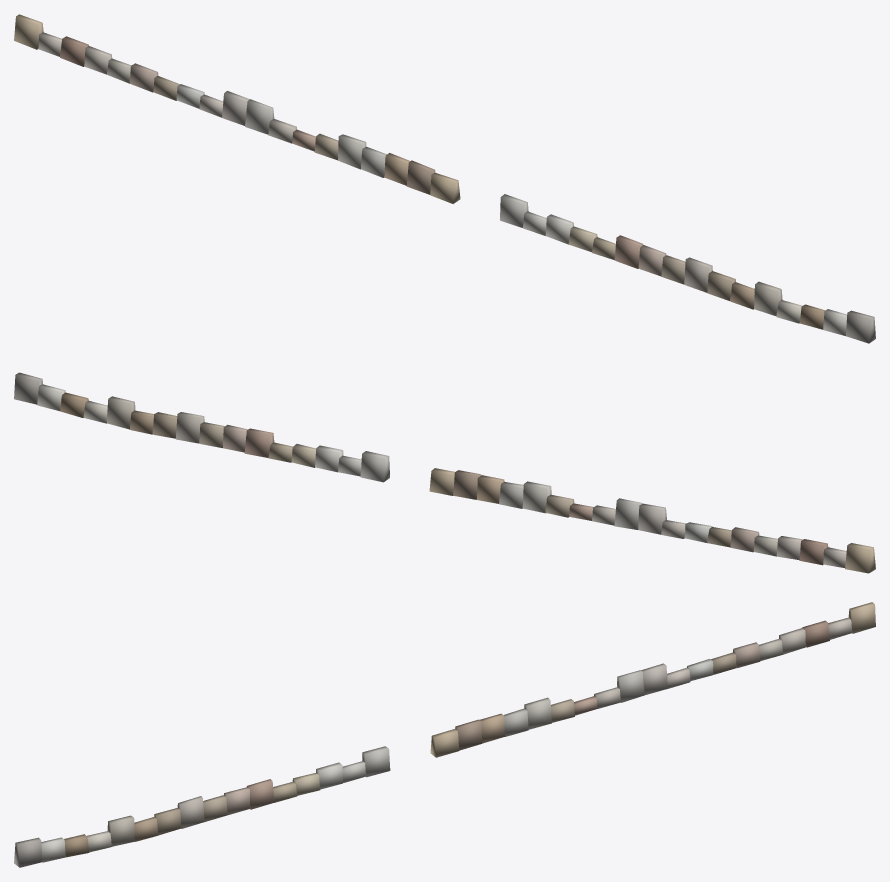
The model's file is farm_18_8_far.glb.
The picture shows the model from 3 angles, top to bottom: view 1: azimuth 30°, elevation 25°; view 2: azimuth 210°, elevation 25°; view 3: azimuth 270°, elevation 25°; orthographic projection. The views are drawn at different scales.
Visible parts, largest first — view 1: geometry_0; view 2: geometry_0; view 3: geometry_0.
Part boxes in pixels (box(x1,y1,x2,y2)): geometry_0: box(14, 14, 875, 343); geometry_0: box(14, 372, 875, 573); geometry_0: box(14, 602, 875, 867).
Size of the model in its own units: 26.63 by 5.46 by 52.31.
